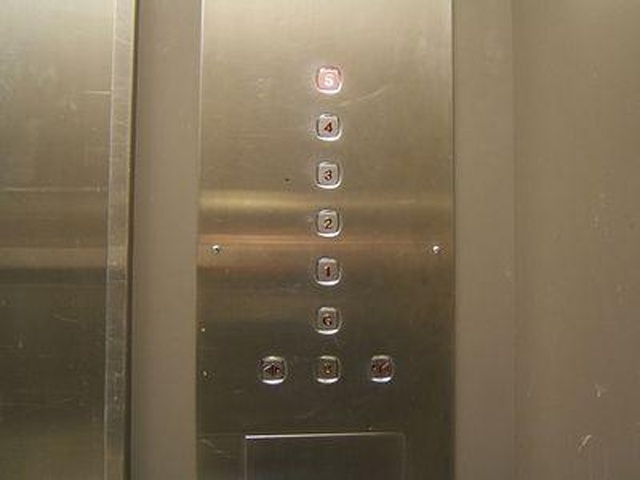1: (312, 252, 344, 290)
2: (312, 208, 343, 240)
3: (313, 158, 344, 190)
4: (314, 111, 344, 143)
5: (315, 63, 343, 94)
G: (312, 303, 343, 335)
blur: (309, 352, 346, 385), (368, 353, 395, 387)
open: (255, 354, 287, 387)
